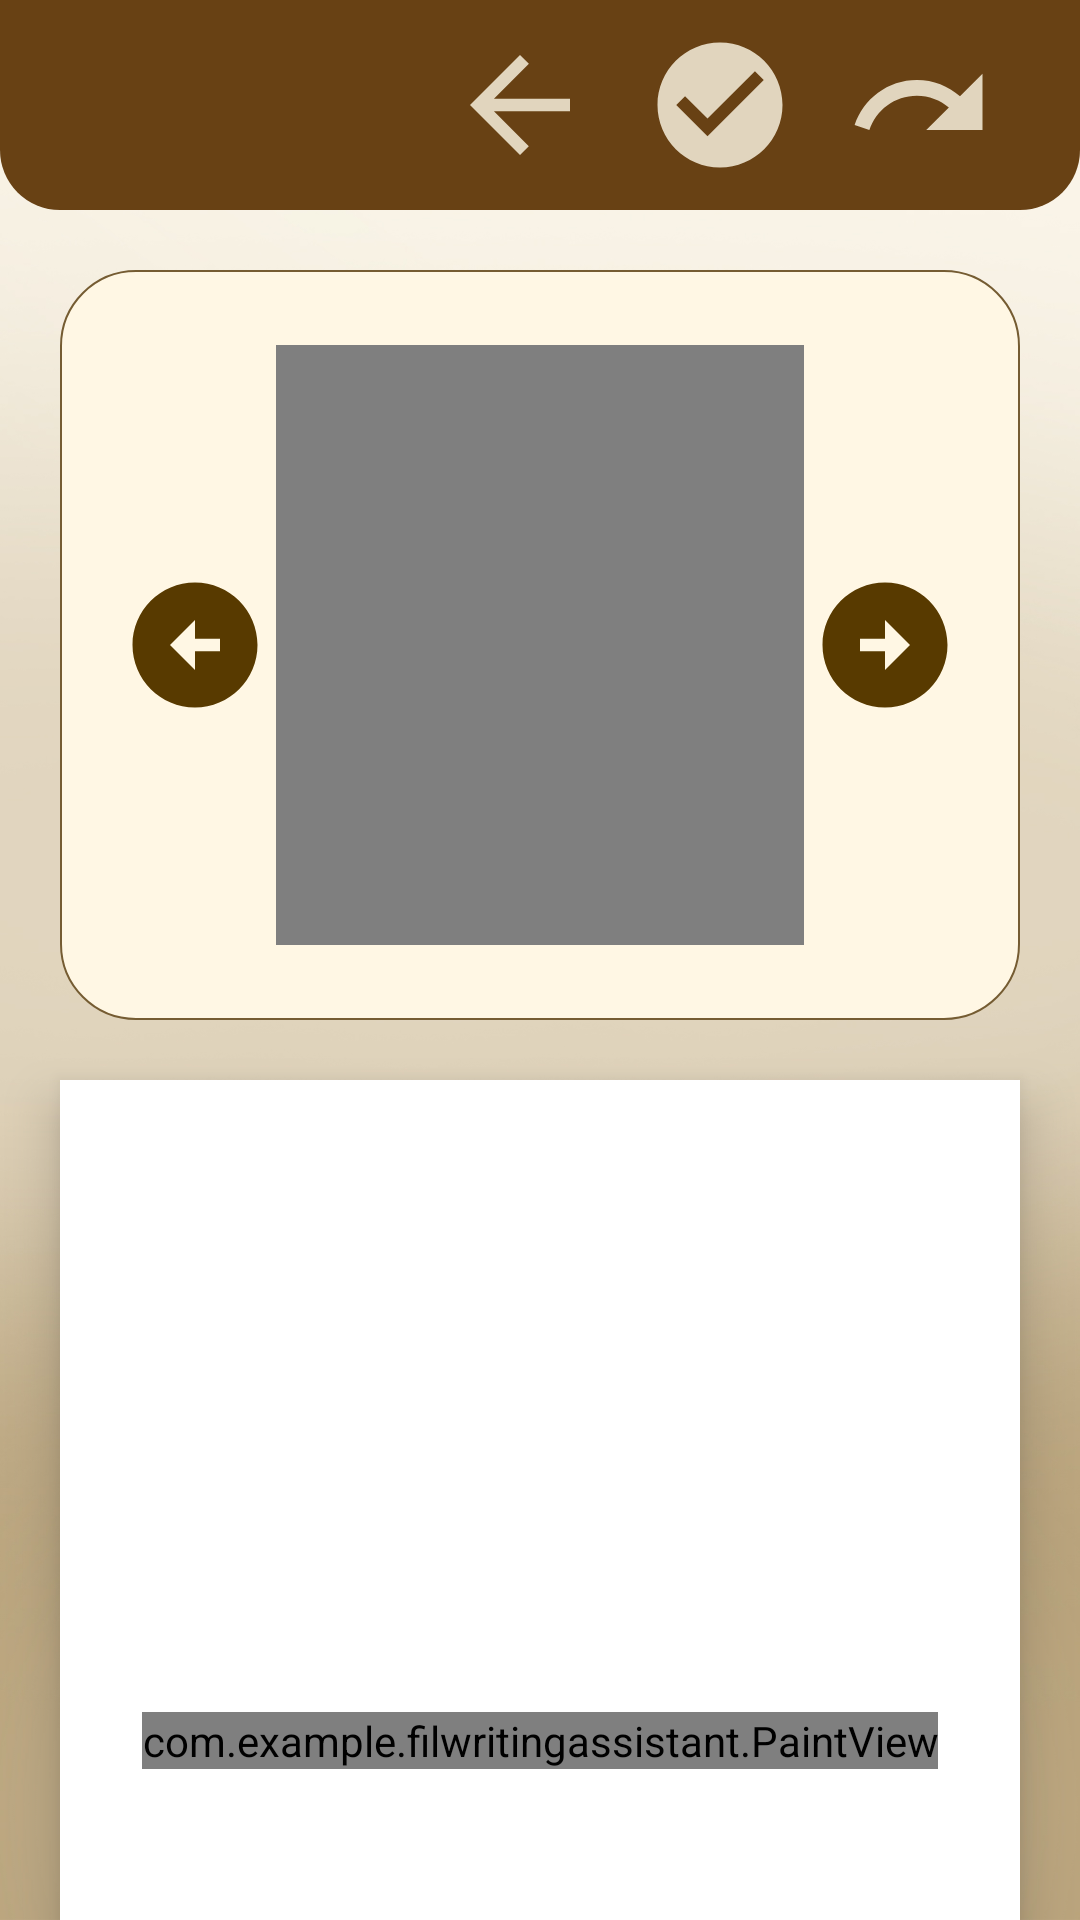

Icons on this 1080 x 1920 Android screen, each with its box as [x1, y1, x2, y2]:
arrowleftsimu: [132, 582, 258, 708]
arrowrightsimu: [822, 582, 948, 708]
redosimu: [854, 74, 983, 130]
returnsimu: [470, 55, 570, 155]
submitsimulation: [657, 42, 783, 168]
